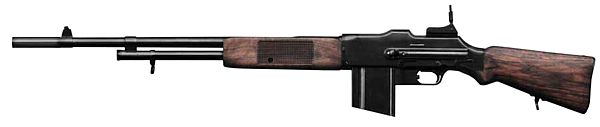rifle: (13, 7, 600, 126)
